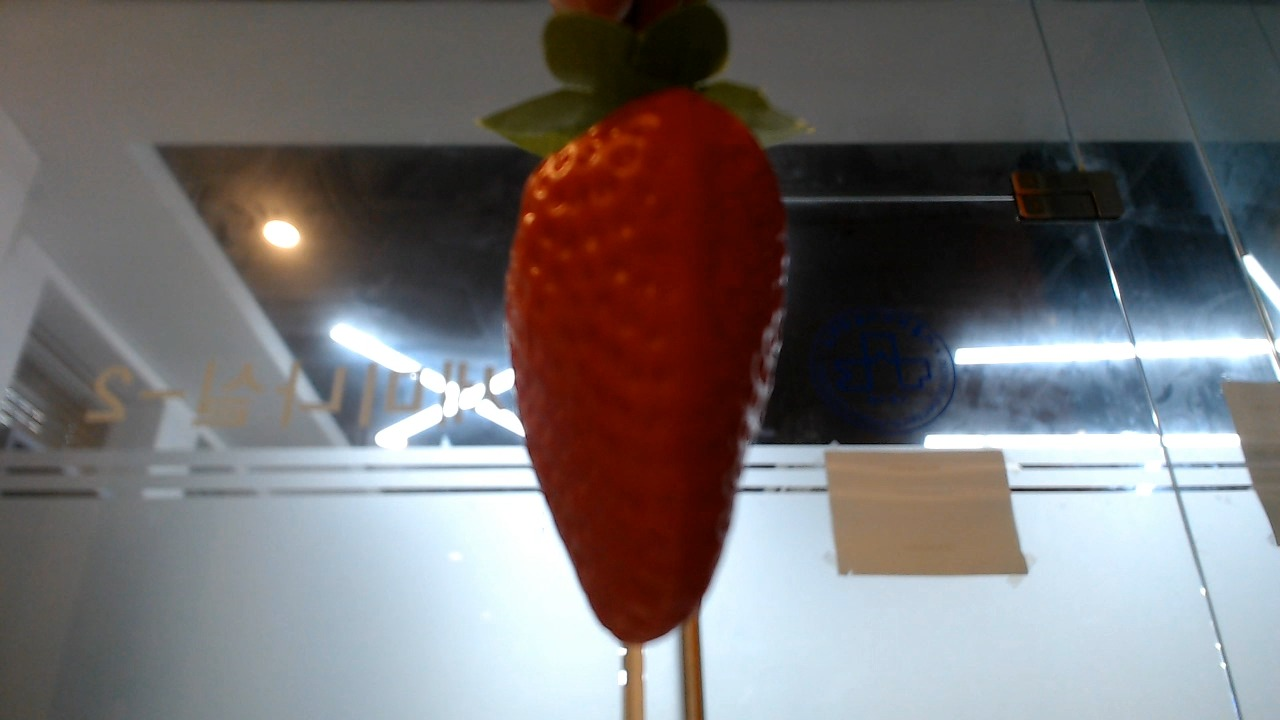strawberry: (501, 20, 793, 645)
